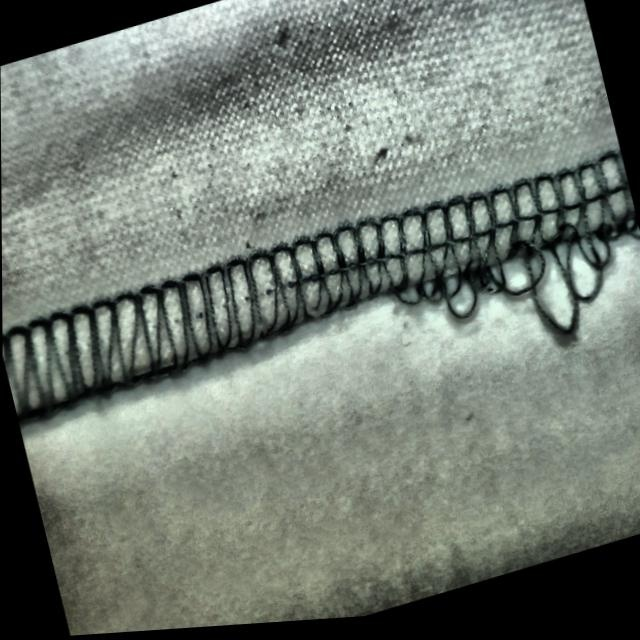Stitch: (363, 129, 640, 394)
